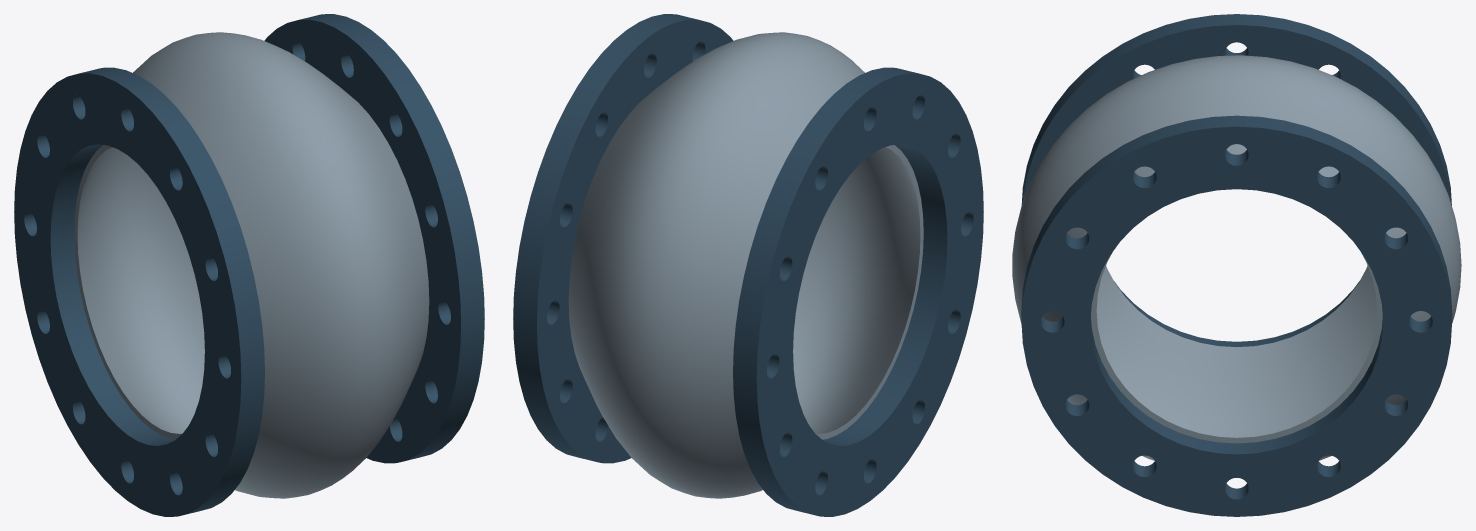
3 renders of one model, left to right at view 1: azimuth 30°, elevation 25°; view 2: azimuth 150°, elevation 25°; view 3: azimuth 270°, elevation 25°, orthographic. The views are drawn at different scales.
Visible parts, largest first — view 1: rebro_vstavka_rezina, homut_flanec_1, homut_flanec_2; view 2: rebro_vstavka_rezina, homut_flanec_1, homut_flanec_2; view 3: homut_flanec_2, rebro_vstavka_rezina, homut_flanec_1.
Part boxes in pixels (bbox=[...]): rebro_vstavka_rezina: bbox=[74, 32, 429, 498]; homut_flanec_1: bbox=[14, 67, 264, 516]; homut_flanec_2: bbox=[264, 14, 484, 463]; rebro_vstavka_rezina: bbox=[568, 32, 923, 498]; homut_flanec_1: bbox=[733, 67, 983, 516]; homut_flanec_2: bbox=[513, 14, 733, 463]; homut_flanec_2: bbox=[1021, 115, 1452, 516]; rebro_vstavka_rezina: bbox=[1012, 55, 1461, 460]; homut_flanec_1: bbox=[1021, 14, 1451, 347].
Size of the model in its own units: 245 by 413 by 413.
